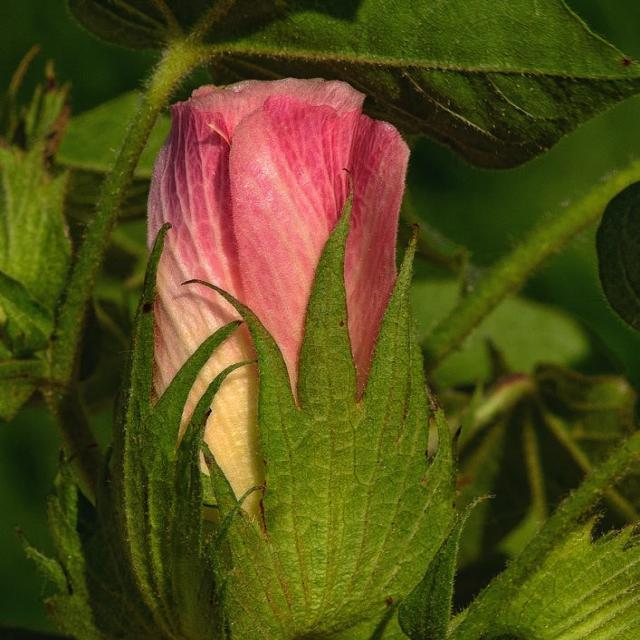Cotton Blossom: (138, 67, 451, 640)
